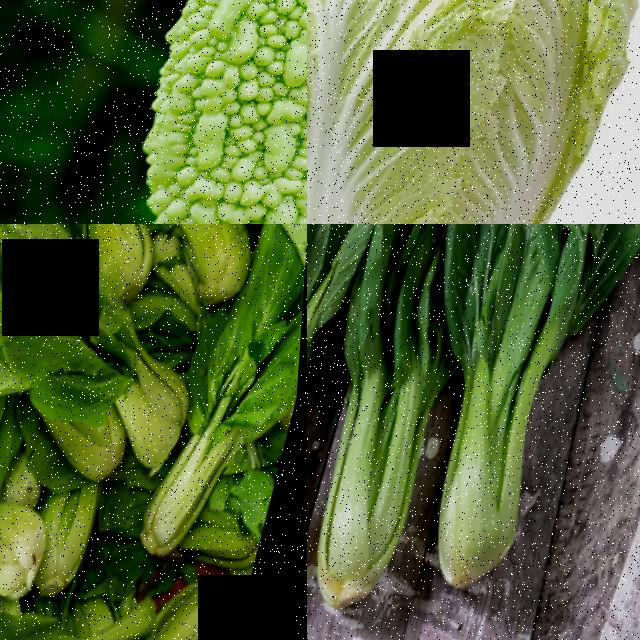bitter gourd: (69, 0, 307, 224)
bok choy: (412, 224, 640, 619), (307, 224, 492, 640), (144, 284, 289, 582), (307, 224, 397, 630), (0, 238, 208, 405), (0, 542, 235, 640), (162, 224, 273, 301), (0, 504, 62, 607)
cabbage: (307, 0, 640, 224)
